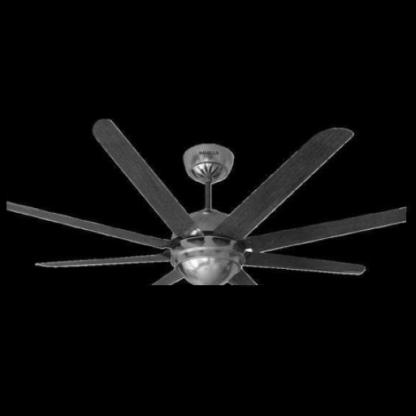ceiling-fan: (7, 117, 407, 286)
